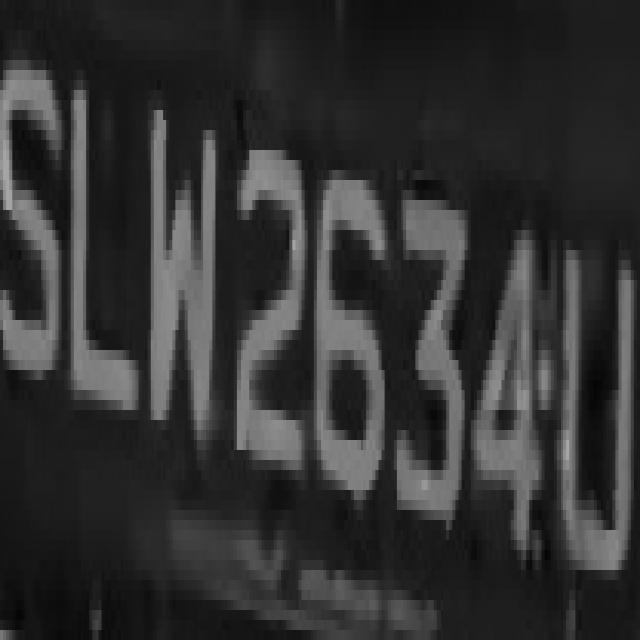2: (231, 130, 314, 540)
3: (384, 170, 464, 570)
4: (462, 170, 548, 570)
6: (308, 130, 388, 550)
L: (52, 40, 136, 450)
S: (3, 20, 59, 420)
U: (3, 3, 3, 10)
W: (132, 120, 228, 480)
